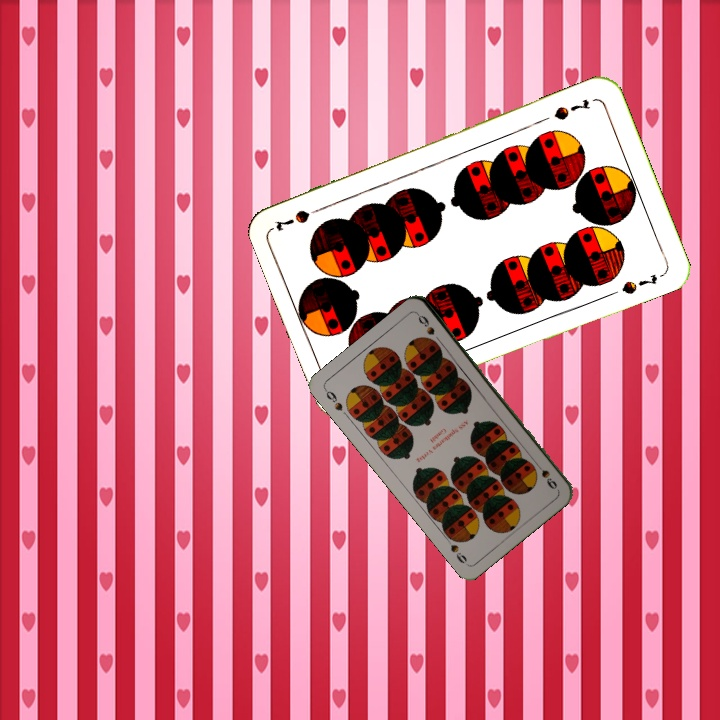S7: (550, 94, 593, 123)
S9: (531, 457, 560, 492), (321, 385, 345, 413)
